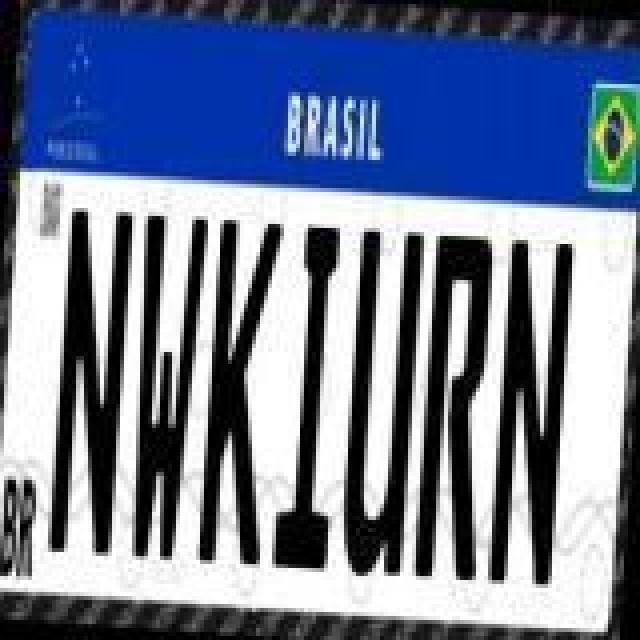I: (272, 220, 352, 572)
K: (196, 216, 284, 568)
N: (48, 206, 136, 562), (484, 238, 572, 586)
R: (412, 232, 500, 584)
U: (340, 228, 428, 580)
W: (124, 210, 212, 558)
